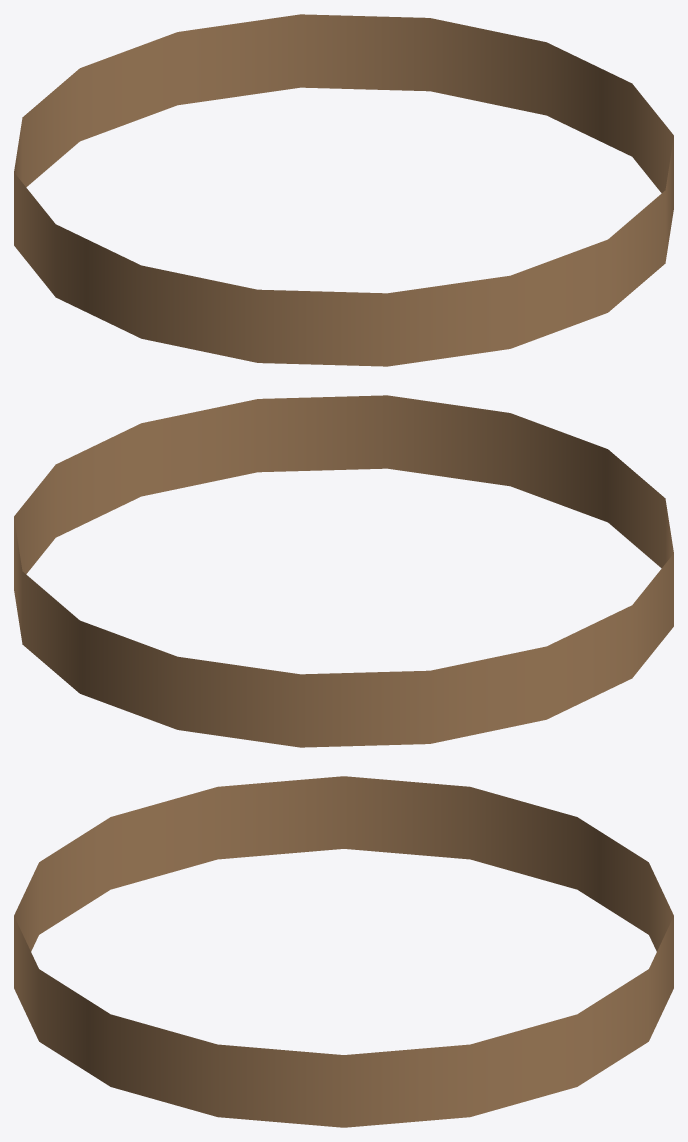
Rendered from Nel_gun_cal152x2_001_2_details_3.obj.
3 views of the same model, one above another, from view 1: azimuth 30°, elevation 25°; view 2: azimuth 150°, elevation 25°; view 3: azimuth 270°, elevation 25° (orthographic).
Visible parts, largest first — view 1: Nel_gun_cal152x2_001_2_details_3; view 2: Nel_gun_cal152x2_001_2_details_3; view 3: Nel_gun_cal152x2_001_2_details_3.
Boxes of the visible parts, <box> form: Nel_gun_cal152x2_001_2_details_3: <box>14,14,673,366</box>; Nel_gun_cal152x2_001_2_details_3: <box>14,395,673,747</box>; Nel_gun_cal152x2_001_2_details_3: <box>14,776,673,1127</box>.
Size of the model in its own units: 3.56 by 0.433 by 3.56.
